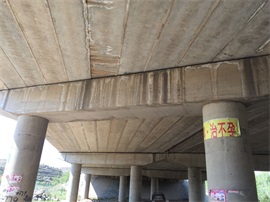corrosion: (224, 58, 251, 70), (163, 72, 173, 95), (94, 50, 106, 64)
